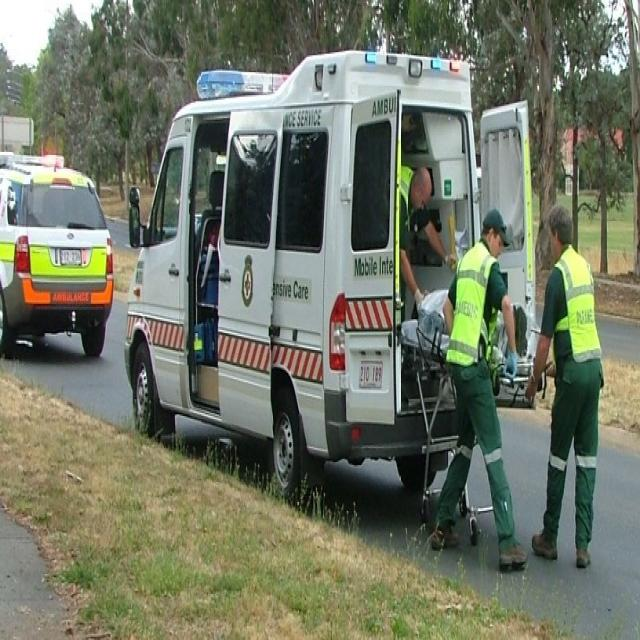emergency-vehicle: (125, 43, 542, 517)
